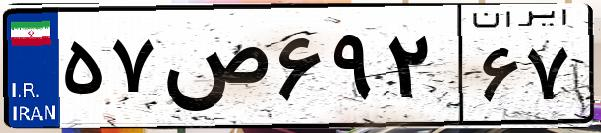2: (385, 28, 445, 110)
5: (57, 26, 110, 100)
6: (270, 28, 330, 110), (475, 38, 525, 113)
7: (525, 38, 570, 115), (110, 28, 158, 98)
9: (330, 28, 385, 110)
ص: (158, 20, 270, 120)
